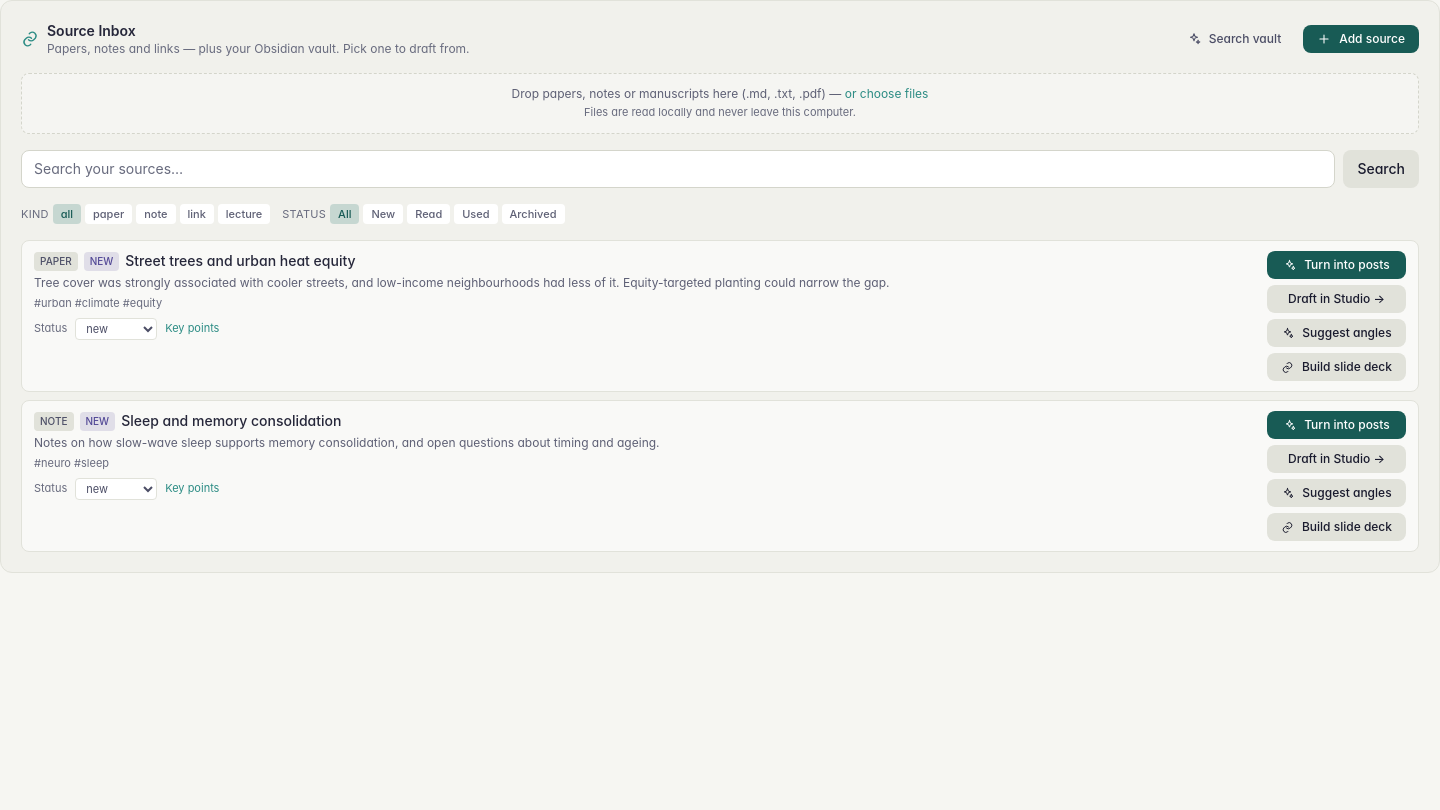
SourceInbox upgrade › filters by kind and by status, hiding archived sources from the active view
Expected: the list with test id "source-list" is shown, [21, 240, 1419, 552]
Expected: the number of elements with test id "source-status" is 2, [84, 252, 119, 270]; [80, 412, 115, 430]
// Kind filter: only the paper remains.
Click the button "paper".
click(109, 214)  # box [85, 204, 132, 224]
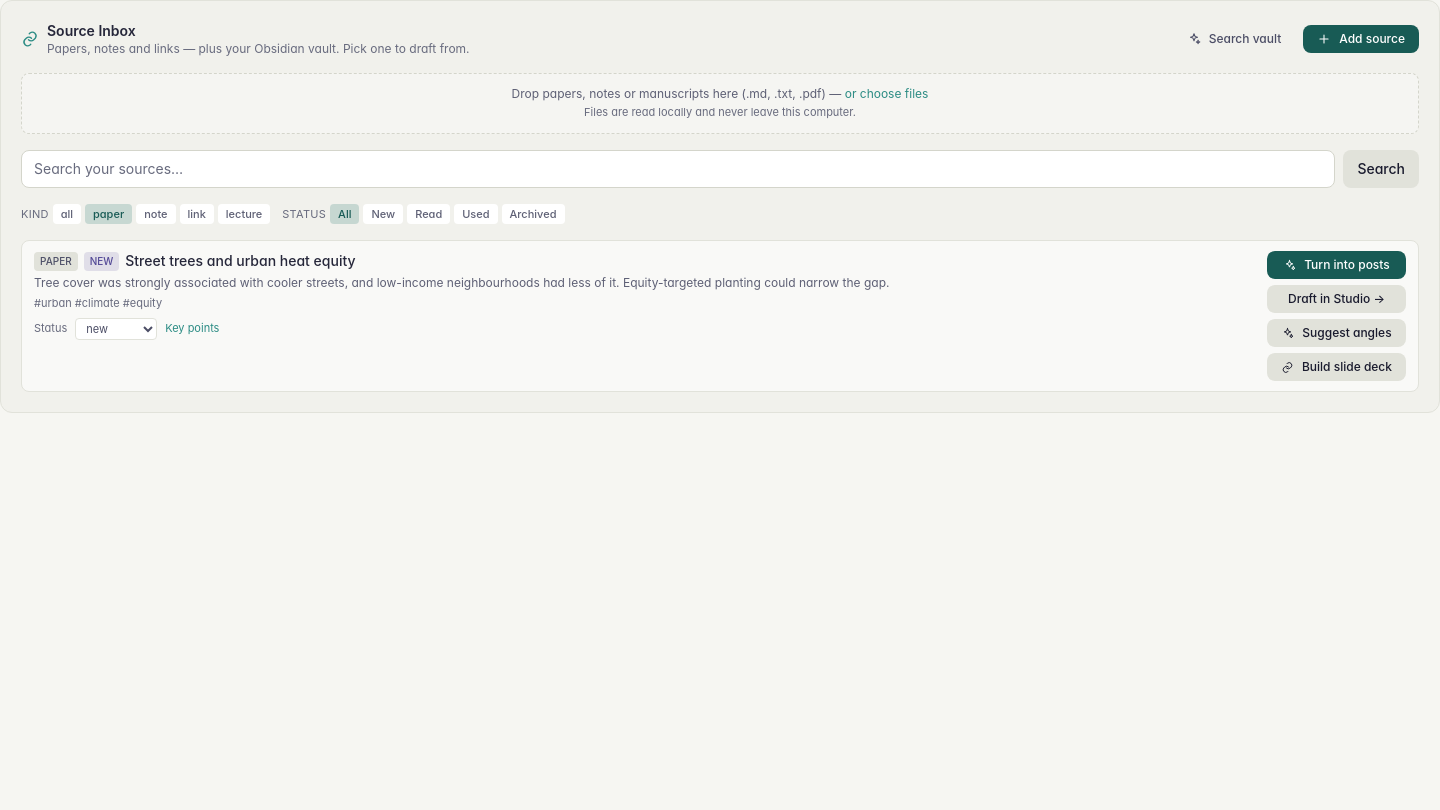
Expected: the number of elements with test id "source-status" is 1, [84, 252, 119, 270]
Click the button "all".
click(67, 214)  # box [53, 204, 81, 224]
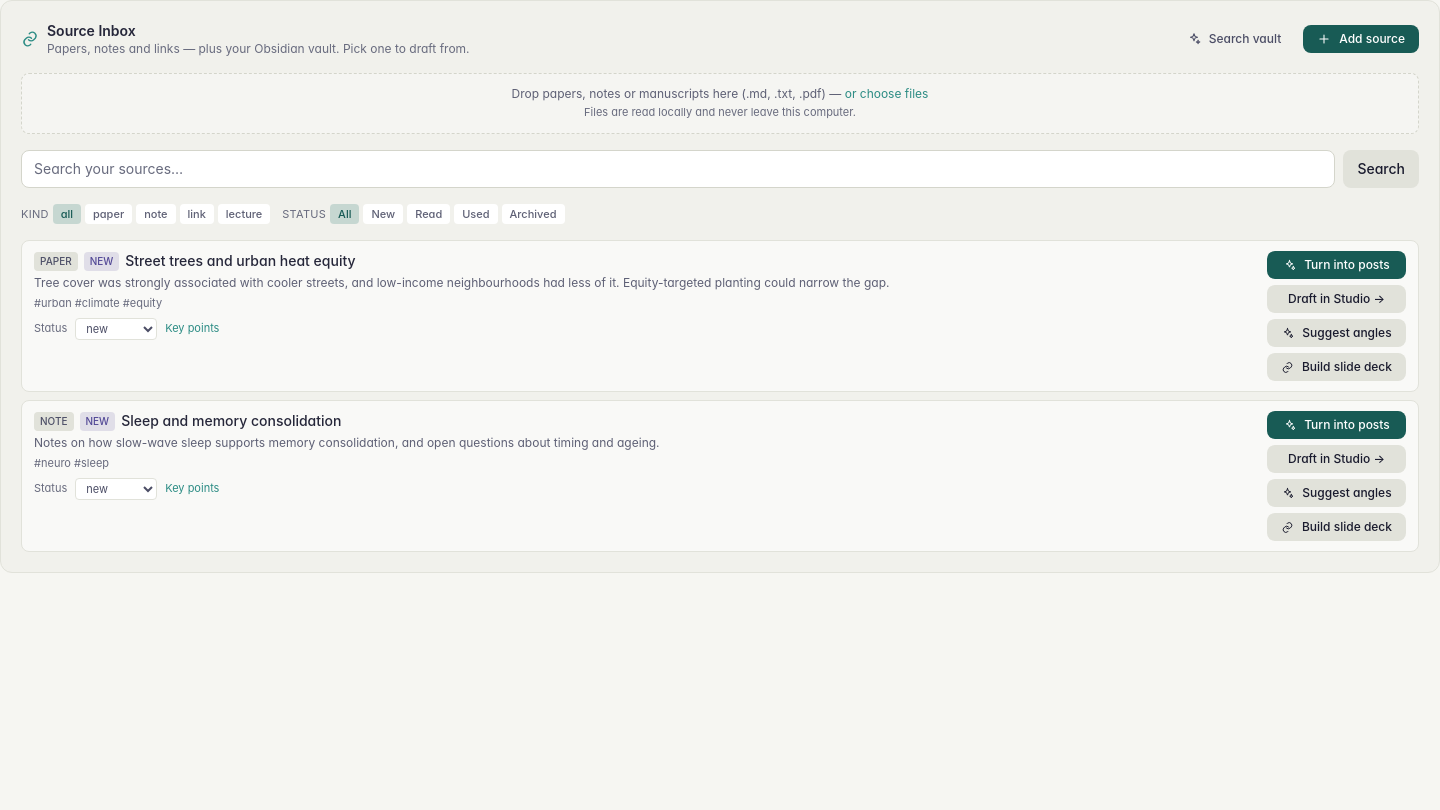
// Archive one source: it disappears from the default (active) view…
Select "archived" in the dropdown labelled "Status" below "#urban #climate #equity" at coordinates (116, 328), box [75, 318, 157, 340]
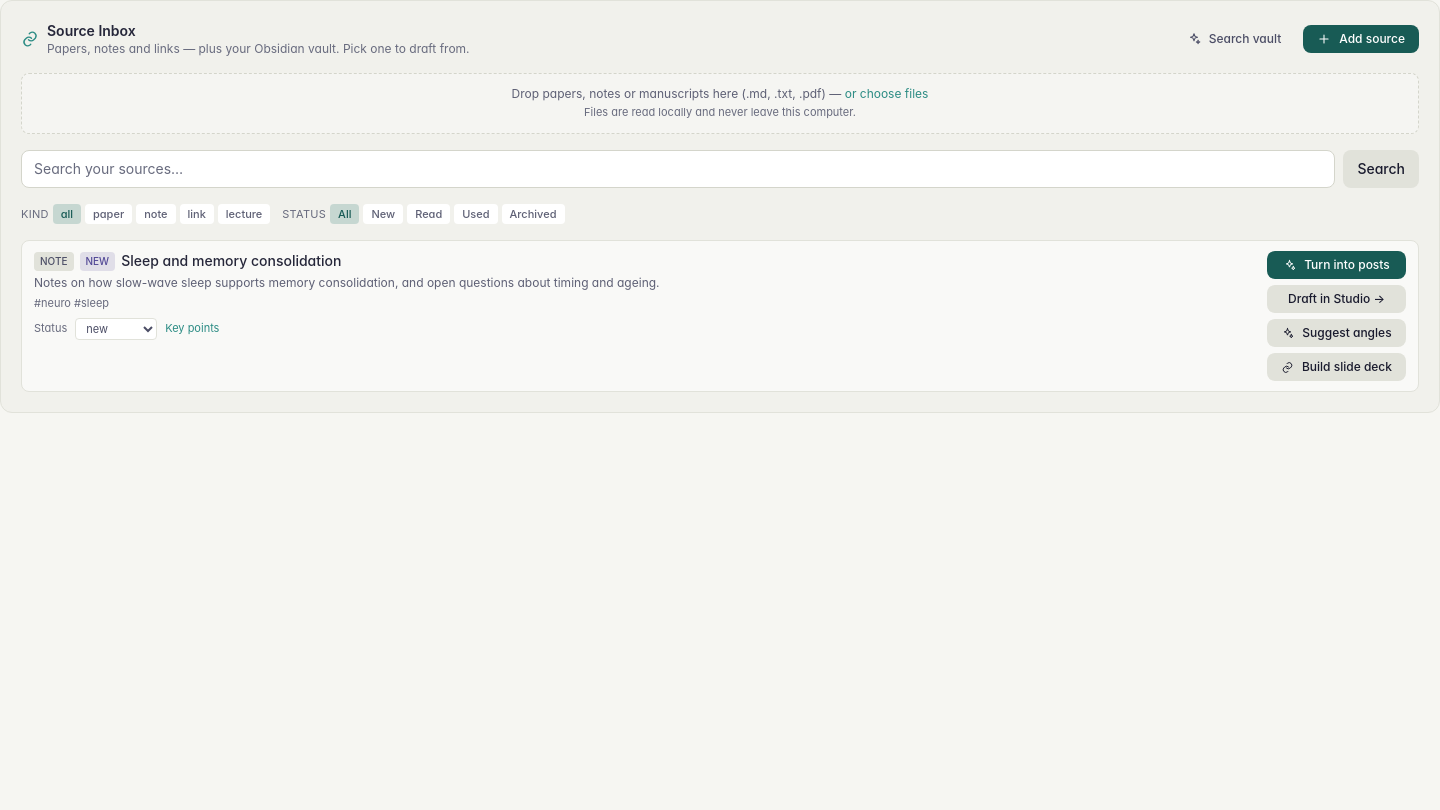
Now the number of elements with test id "source-status" is 1, box [80, 252, 115, 270]
// …and shows up under the archived filter.
Click the button "Archived".
click(533, 214)  # box [502, 204, 564, 224]
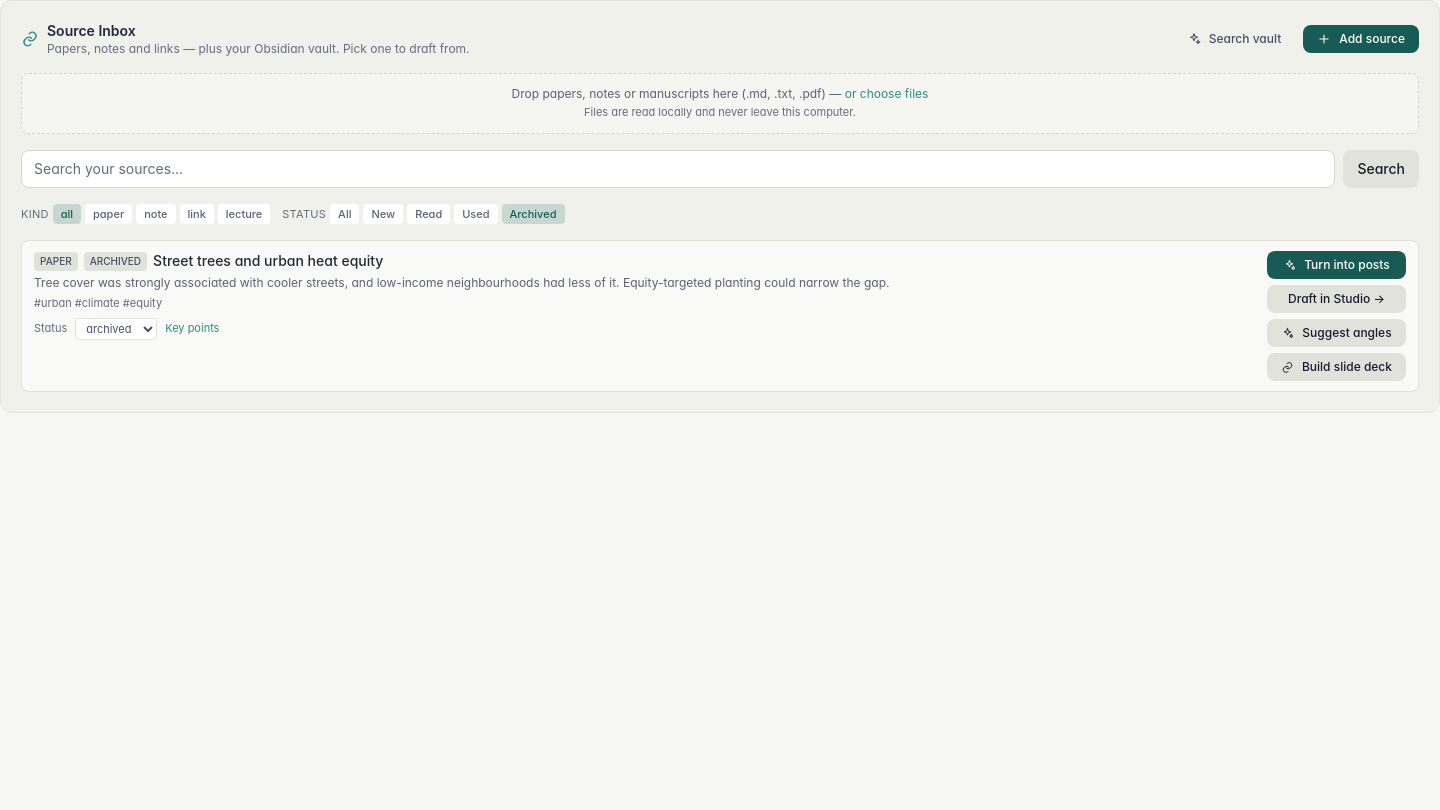
Now the number of elements with test id "source-status" is 1, box [84, 252, 147, 270]
Now the text with test id "source-status" reads "Archived", box [90, 254, 141, 266]
